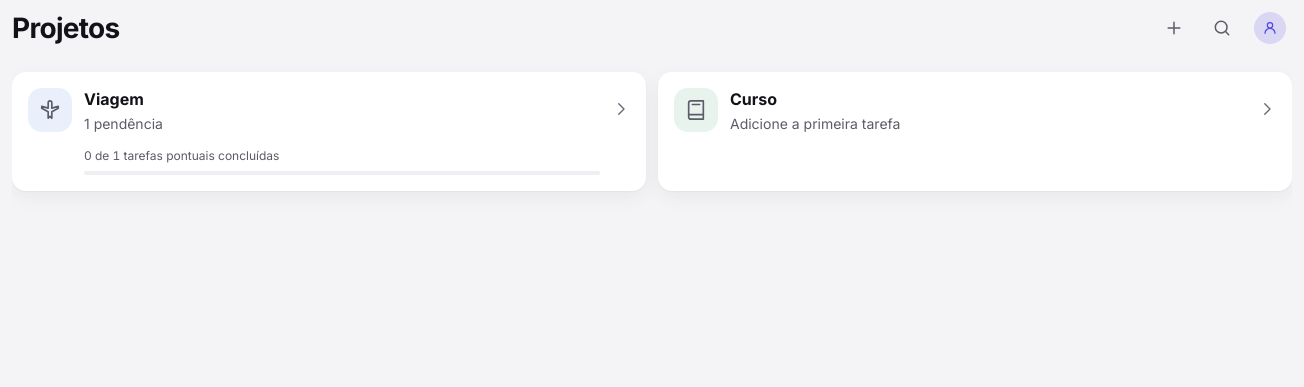
Test: conclui uma tarefa e atualiza o progresso sem trocar de projeto
Click the button "Viagem 1 pendência 0 de 1 tarefas pontuais concluídas" at (50, 110), box top-left (12, 72), bottom-right (646, 191)
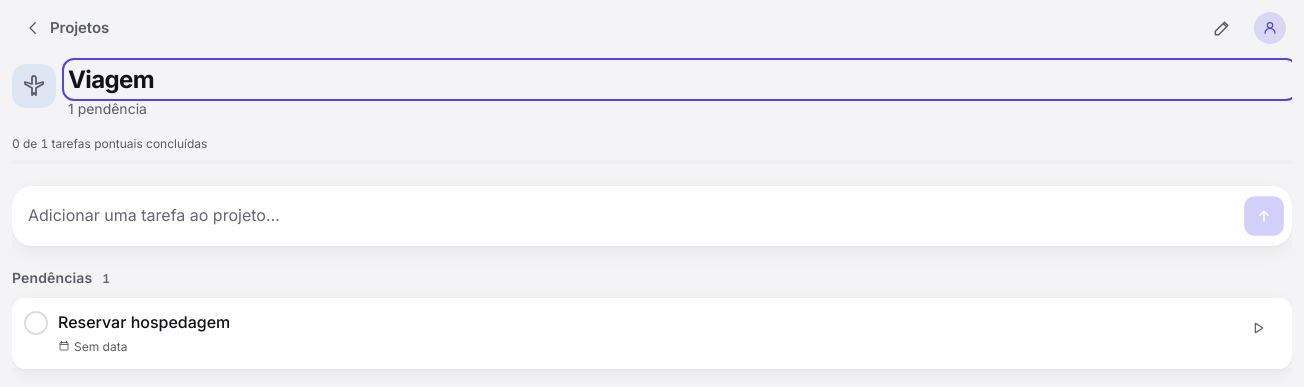
Click the checkbox named "Concluir: Reservar hospedagem" at (36, 323), box top-left (24, 311), bottom-right (48, 335)
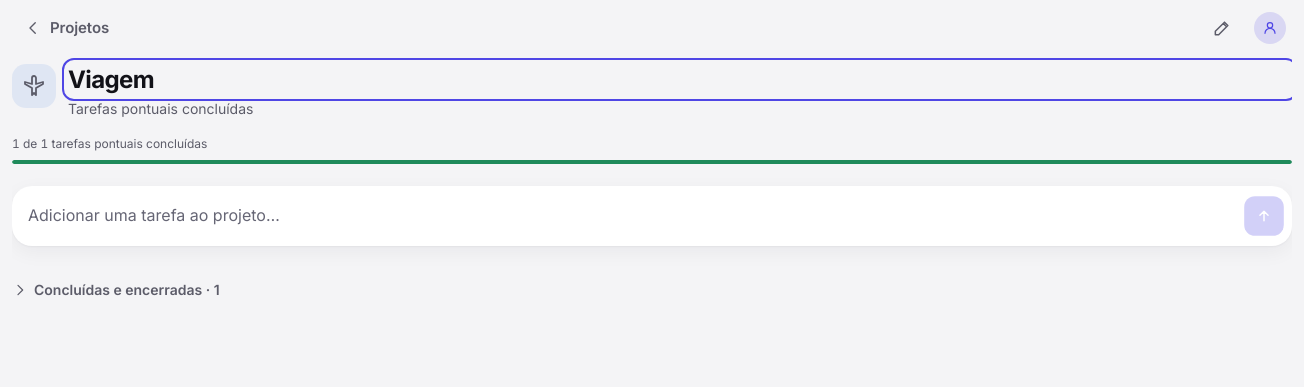
Now the progress indicator named "Tarefas pontuais do projeto" has attribute aria-valuenow="100", box top-left (12, 160), bottom-right (1292, 164)
